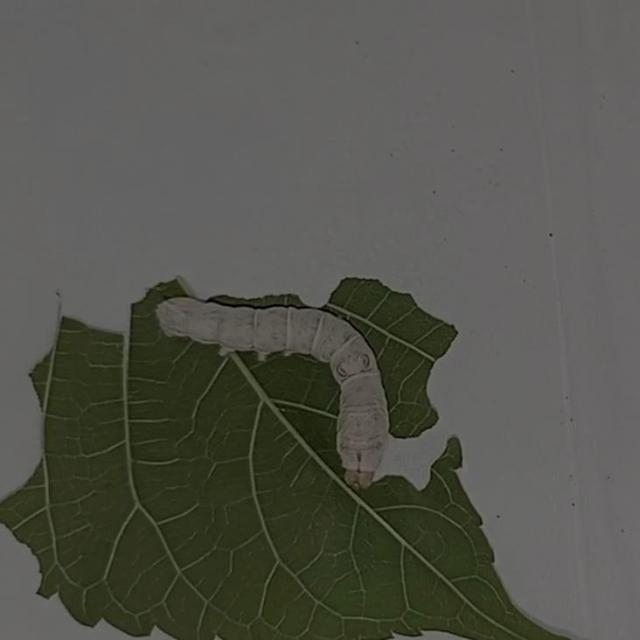Healthy: (149, 274, 409, 501)
